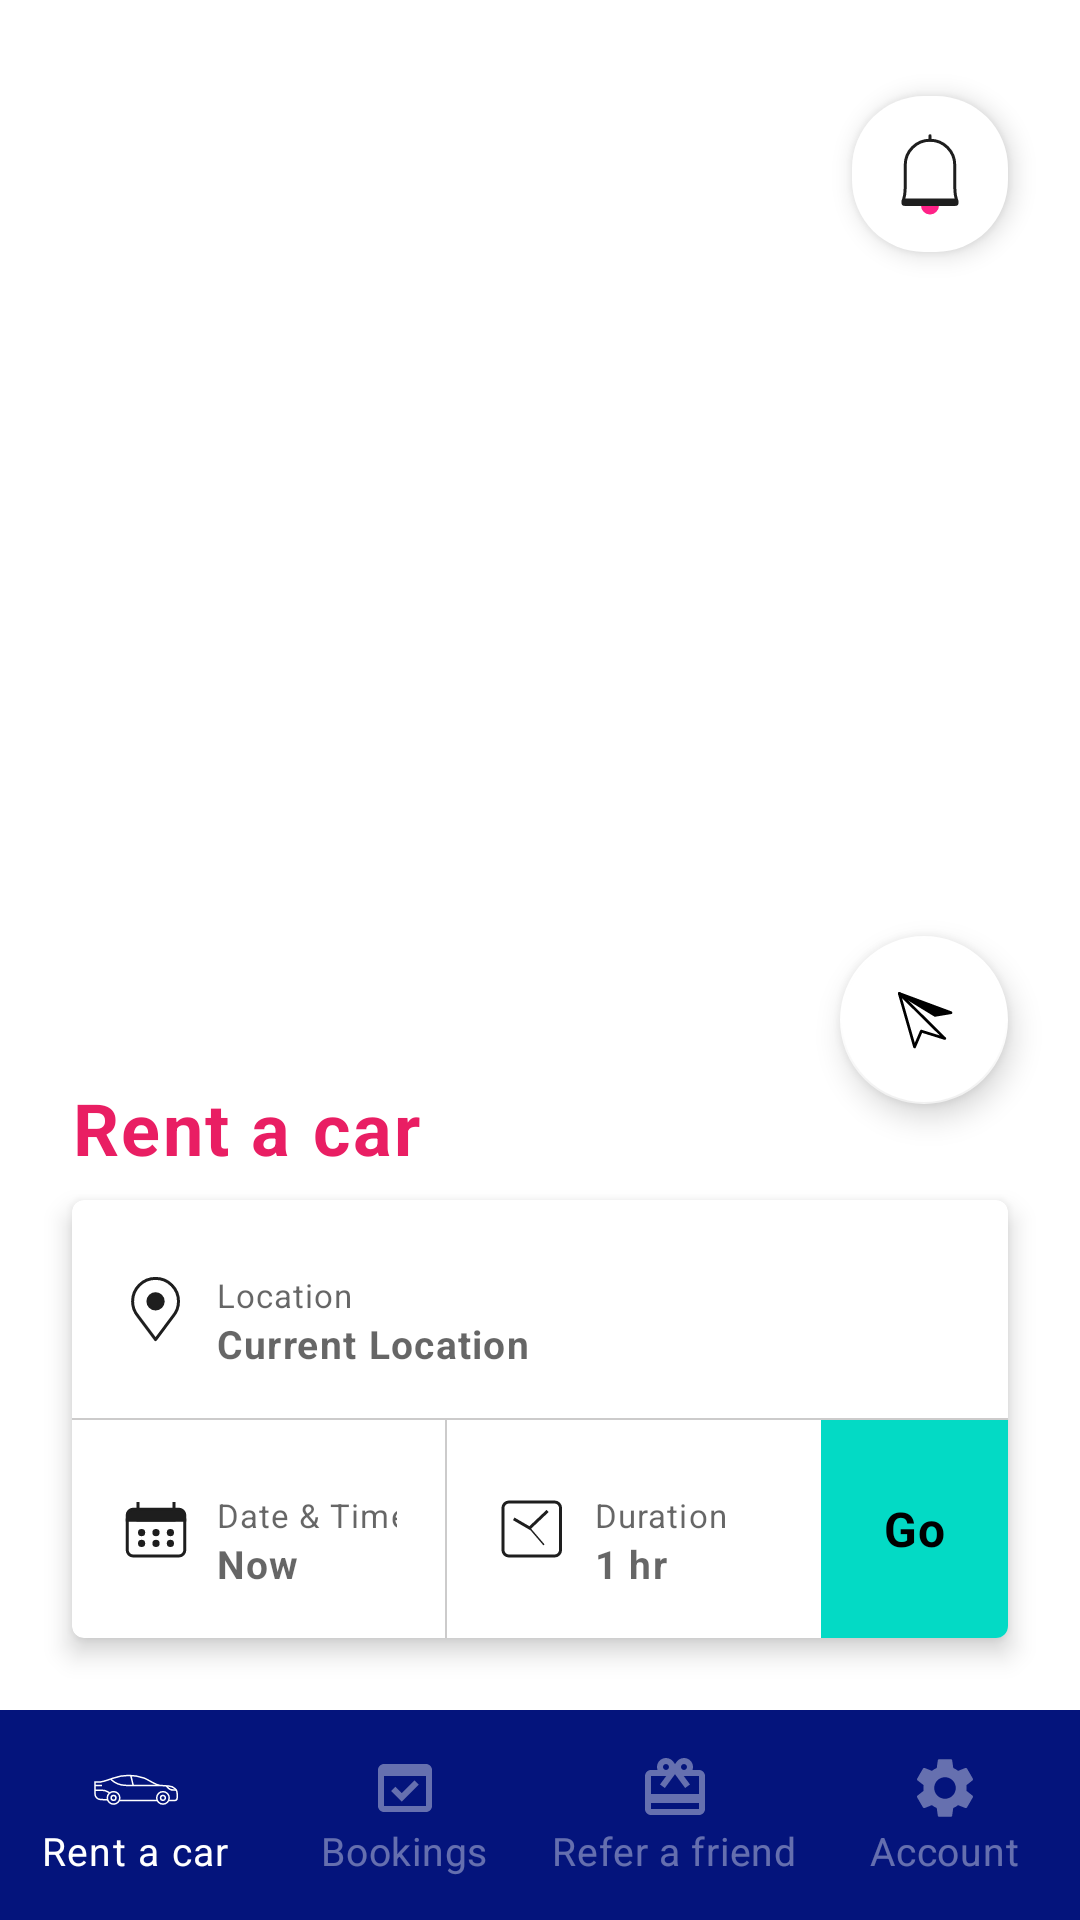

Where to tap for icons on this 1080 × 1920 app screen, as (x,y):
icoactionalert: (954,182)
icoaddress: (155,1309)
icodated: (156,1530)
icotime: (531,1529)
